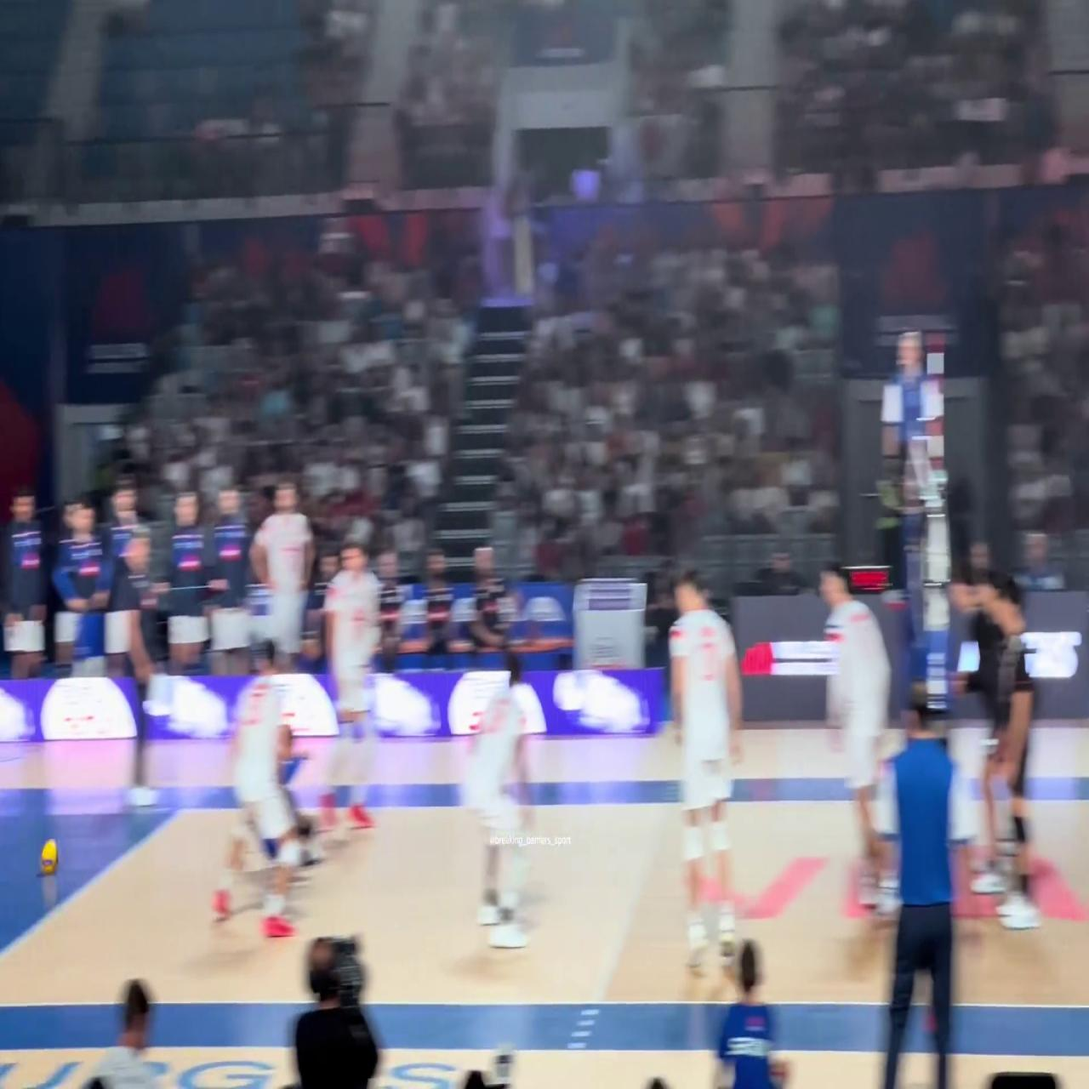ball: (40, 840, 58, 873)
